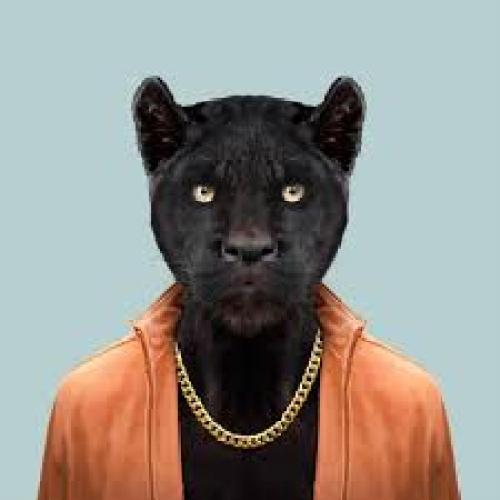panther-endangered: (132, 75, 364, 500)
